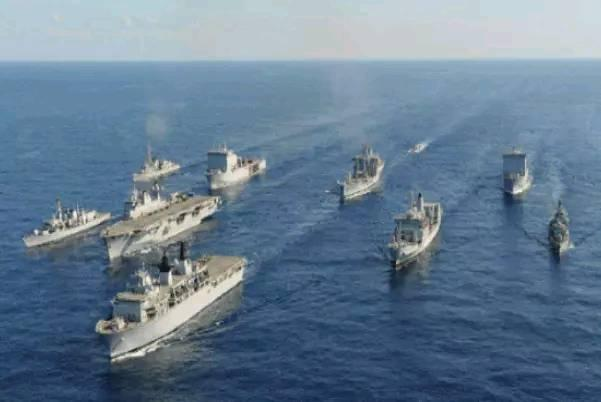warship: (84, 242, 247, 363), (102, 175, 223, 259), (20, 195, 111, 247), (388, 193, 443, 268), (204, 140, 269, 194), (336, 140, 386, 205), (128, 148, 183, 185), (499, 144, 535, 199), (543, 198, 575, 256)
